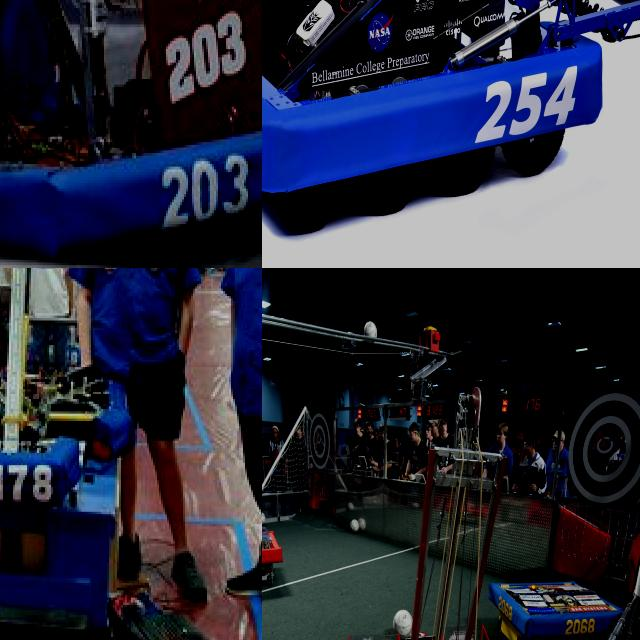FRC-Robots: (262, 0, 640, 226), (0, 0, 262, 248), (332, 381, 546, 640), (0, 268, 165, 500), (493, 554, 617, 640), (262, 515, 286, 601)
